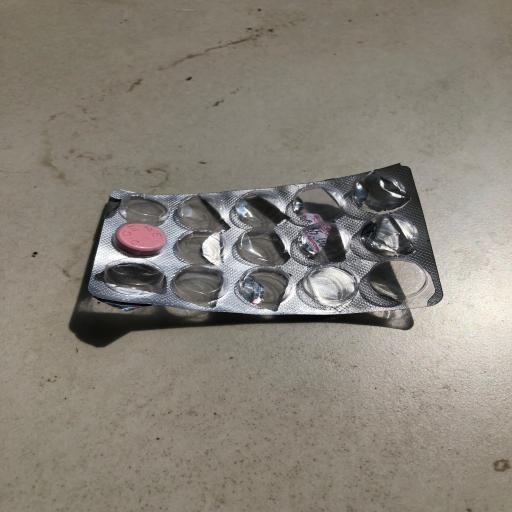waste: (71, 157, 460, 327)
